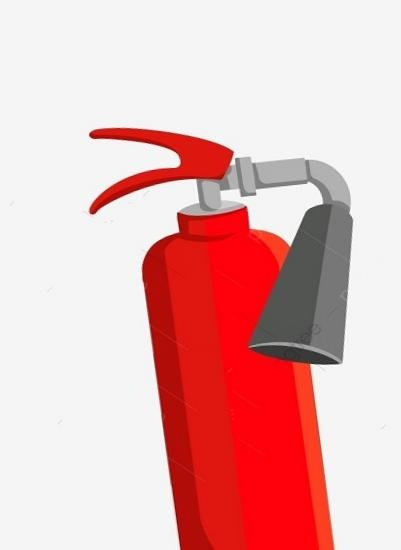fire_extinguisher: (87, 126, 354, 550)
